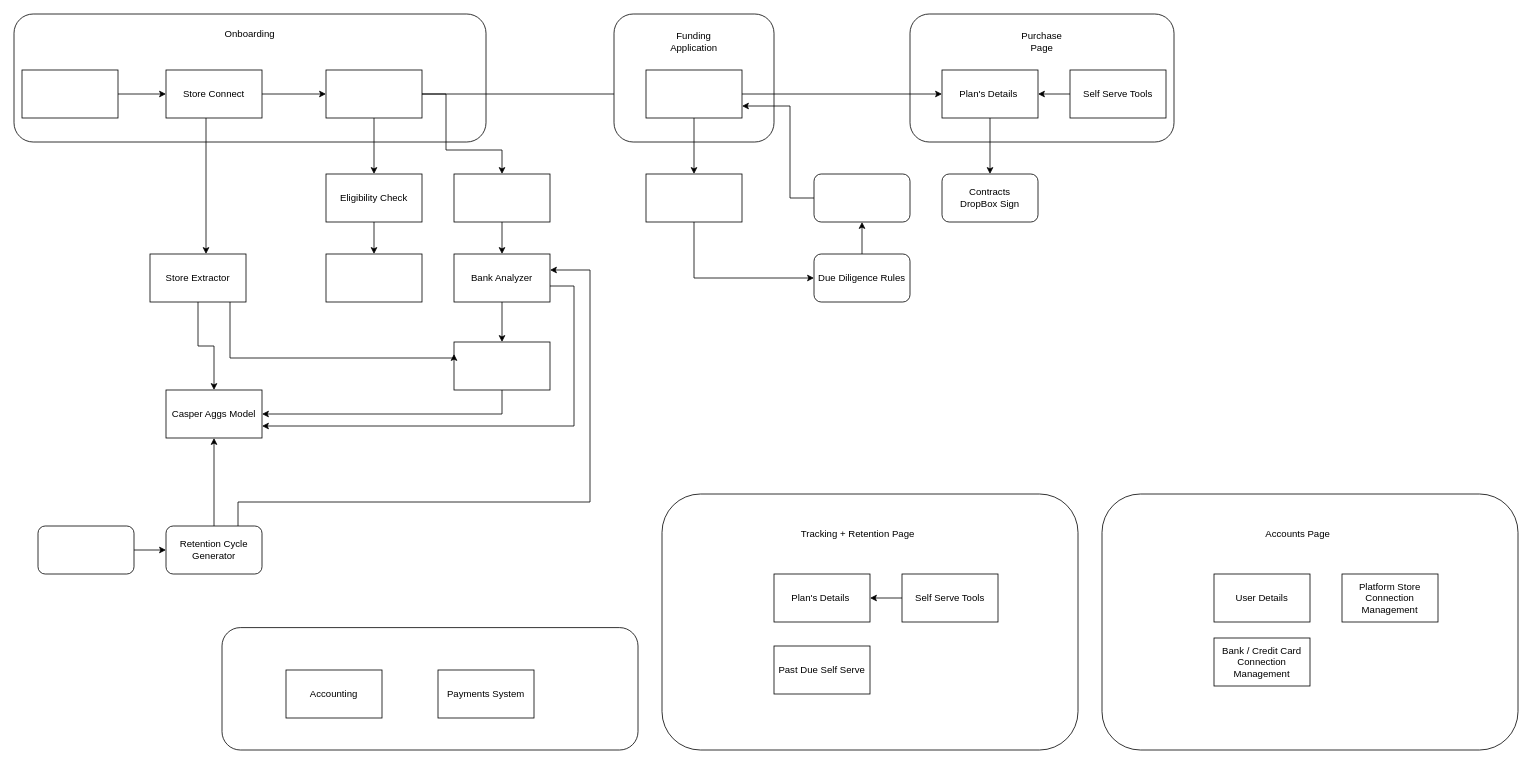
This 1532x764 diagram has some shape labels left out. Here are the shapes that lost their labels. From the top down, the centre of each, then its label:
point 69,93: Signup
point 373,93: Bank Connect
point 693,93: Due Diligence Questions
point 501,197: Bank Extractor
point 693,197: KYB / KYC Extractor
point 861,197: Questions Generator
point 373,277: Plan Builder
point 501,365: Auto Bank Confirmation
point 85,549: Re-Eligible Worker
